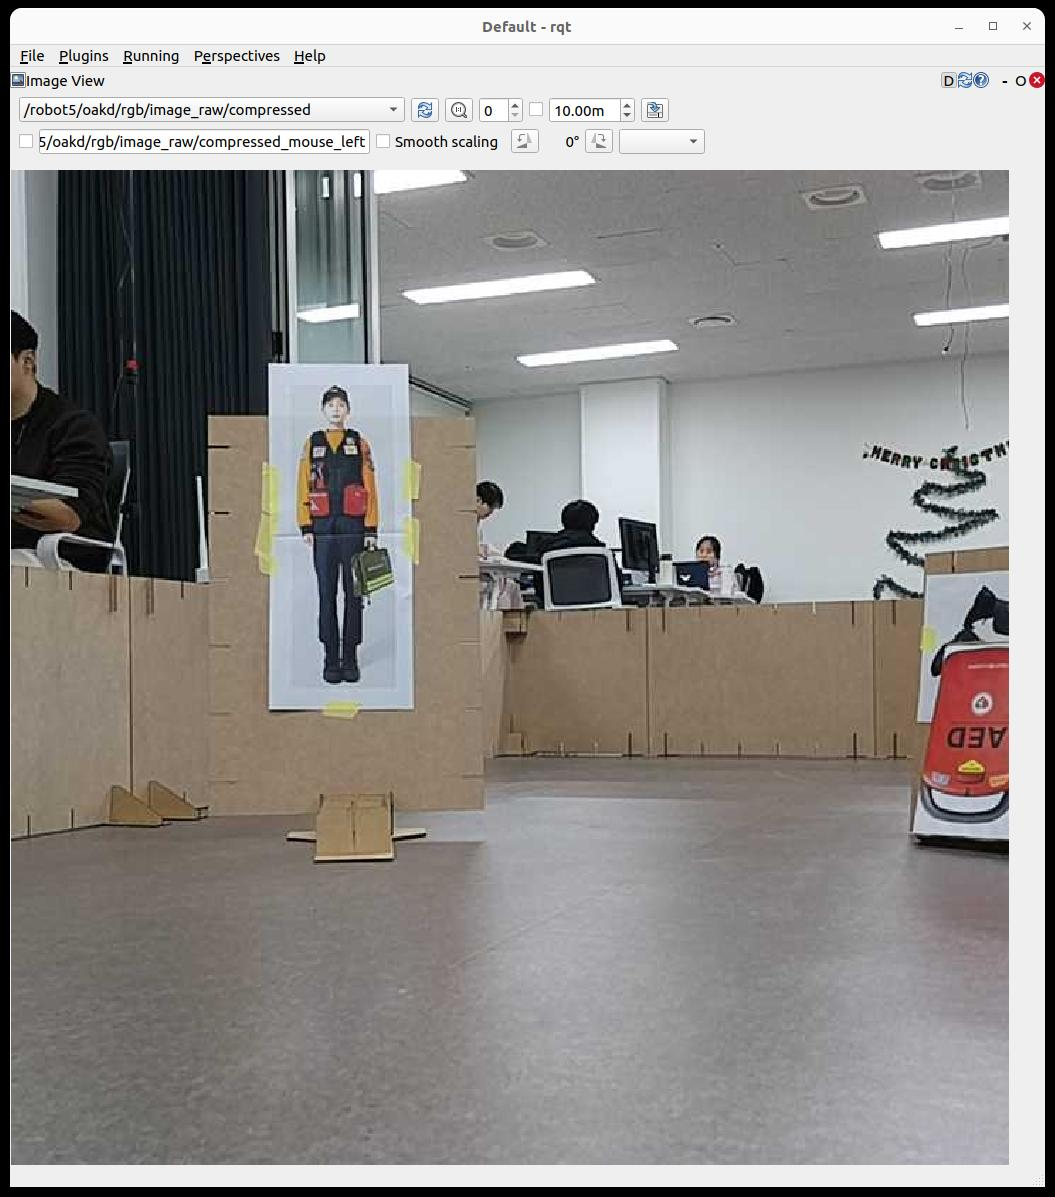AED: (919, 644, 1008, 830)
Responder: (297, 385, 378, 683)
